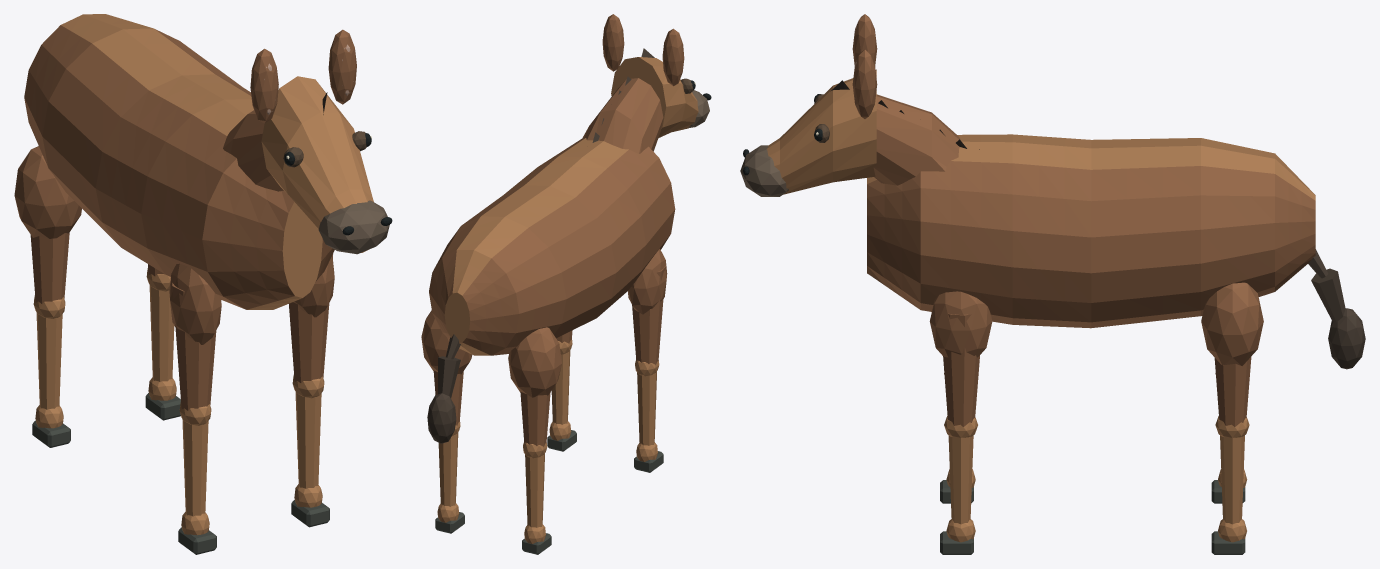
Rendered from horse.glb.
The picture shows the model from 3 angles, left to right: view 1: azimuth 30°, elevation 25°; view 2: azimuth 150°, elevation 25°; view 3: azimuth 270°, elevation 25°; orthographic projection. The views are drawn at different scales.
Visible parts, largest first — view 1: Body_mesh, Head_mesh, UpperLeg.002_mesh, UpperLeg_mesh, UpperLeg.001_mesh, LowerLeg_mesh, LowerLeg.001_mesh, LowerLeg.002_mesh, LowerLeg.003_mesh, Ear_mesh, Ear.001_mesh, Foot_mesh (+3 smaller); view 2: Body_mesh, Head_mesh, UpperLeg.002_mesh, UpperLeg_mesh, Tail_mesh, UpperLeg.003_mesh, LowerLeg.002_mesh, LowerLeg_mesh, LowerLeg.003_mesh, LowerLeg.001_mesh, Ear_mesh, Ear.001_mesh (+2 smaller); view 3: Body_mesh, Head_mesh, UpperLeg.003_mesh, UpperLeg.001_mesh, Tail_mesh, LowerLeg.001_mesh, LowerLeg.003_mesh, Ear.001_mesh, Ear_mesh.
Boxes of the visible parts, left/top/right/bottom form: Body_mesh: left=24, top=14, right=334, bottom=309; Head_mesh: left=223, top=76, right=392, bottom=254; UpperLeg.002_mesh: left=14, top=146, right=81, bottom=318; UpperLeg_mesh: left=169, top=263, right=221, bottom=425; UpperLeg.001_mesh: left=289, top=254, right=334, bottom=398; LowerLeg_mesh: left=181, top=419, right=209, bottom=535; LowerLeg.001_mesh: left=294, top=392, right=322, bottom=507; LowerLeg.002_mesh: left=35, top=313, right=63, bottom=428; LowerLeg.003_mesh: left=148, top=285, right=176, bottom=400; Ear_mesh: left=250, top=48, right=278, bottom=123; Ear.001_mesh: left=328, top=29, right=356, bottom=104; Foot_mesh: left=178, top=527, right=216, bottom=554; Body_mesh: left=429, top=138, right=675, bottom=355; Head_mesh: left=581, top=57, right=711, bottom=153; UpperLeg.002_mesh: left=508, top=327, right=561, bottom=458; UpperLeg_mesh: left=627, top=249, right=667, bottom=376; Tail_mesh: left=427, top=334, right=460, bottom=443; UpperLeg.003_mesh: left=421, top=310, right=472, bottom=435; LowerLeg.002_mesh: left=524, top=454, right=545, bottom=543; LowerLeg_mesh: left=636, top=372, right=657, bottom=461; LowerLeg.003_mesh: left=437, top=432, right=459, bottom=522; LowerLeg.001_mesh: left=549, top=350, right=571, bottom=440; Ear_mesh: left=662, top=28, right=684, bottom=86; Ear.001_mesh: left=602, top=14, right=624, bottom=71; Body_mesh: left=867, top=134, right=1315, bottom=328; Head_mesh: left=740, top=69, right=960, bottom=196; UpperLeg.003_mesh: left=1201, top=282, right=1263, bottom=437; UpperLeg.001_mesh: left=929, top=291, right=992, bottom=437; Tail_mesh: left=1308, top=249, right=1365, bottom=369; LowerLeg.001_mesh: left=946, top=435, right=975, bottom=542; LowerLeg.003_mesh: left=1218, top=435, right=1246, bottom=542; Ear.001_mesh: left=852, top=49, right=877, bottom=118; Ear_mesh: left=852, top=14, right=877, bottom=66.
Size of the model in its own units: 0.7696 by 2.26 by 2.59.
